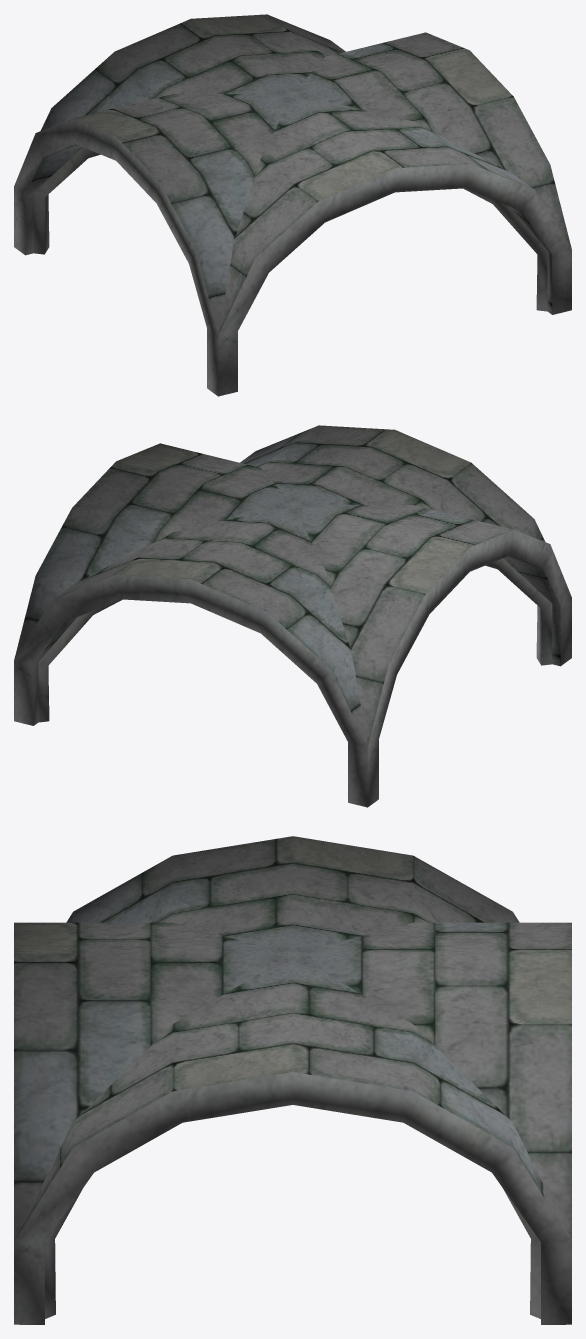
Rendered from vault_ceiling_large_01.glb.
3 views of the same model, one above another, from view 1: azimuth 30°, elevation 25°; view 2: azimuth 150°, elevation 25°; view 3: azimuth 270°, elevation 25° (orthographic). The views are drawn at different scales.
Parts seen in each view (by area): view 1: vault_ceiling_large_01; view 2: vault_ceiling_large_01; view 3: vault_ceiling_large_01.
Boxes of the visible parts, x1,y1,x2,y2 form: vault_ceiling_large_01: (14,14,571,396); vault_ceiling_large_01: (14,425,571,807); vault_ceiling_large_01: (14,836,571,1324).
Bounding box in the file's own units: 4 × 2 × 4.
Materials: 1 (1 with a texture image).
